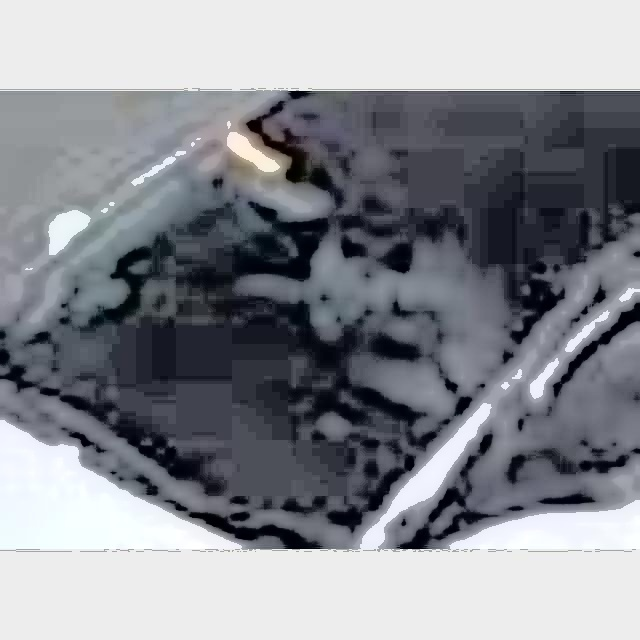pakai: (298, 207, 487, 396)
